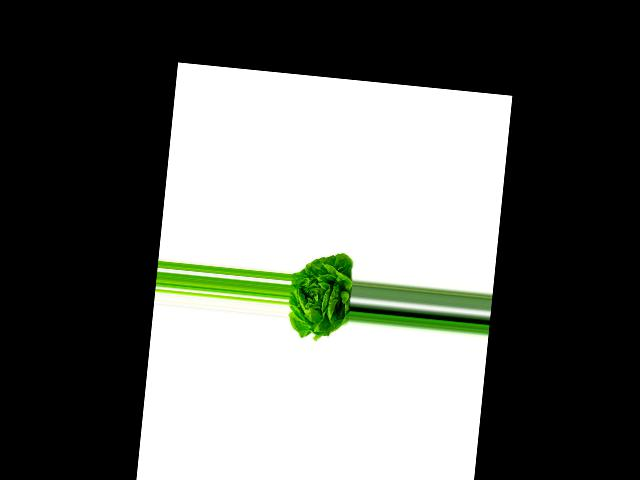lettuce: (286, 247, 356, 340)
